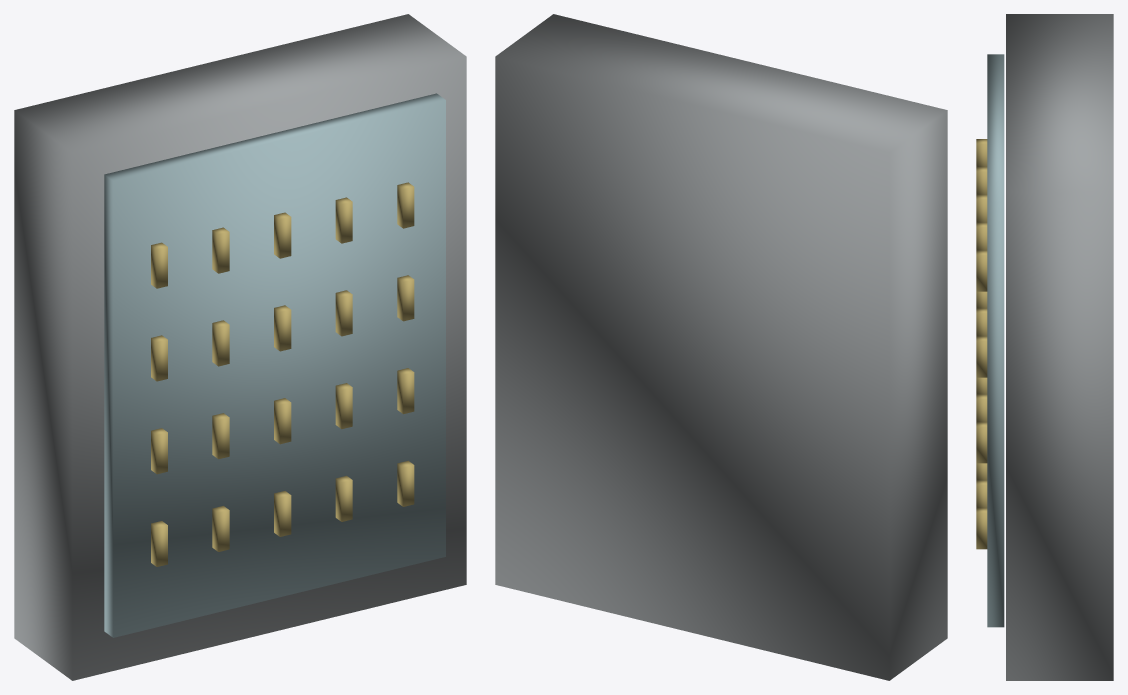
The model's file is wall_key_cabinet__compact.glb.
3 views of the same model, side by side, from view 1: azimuth 30°, elevation 25°; view 2: azimuth 150°, elevation 25°; view 3: azimuth 270°, elevation 25° (orthographic). The views are drawn at different scales.
Parts seen in each view (by area): view 1: world; view 2: world; view 3: world.
Boxes of the visible parts, left/top/right/bottom form: world: left=14, top=14, right=466, bottom=680; world: left=495, top=14, right=947, bottom=680; world: left=976, top=14, right=1113, bottom=680.
Bounding box in the file's own units: 0.5376 × 0.6882 × 0.1754.
